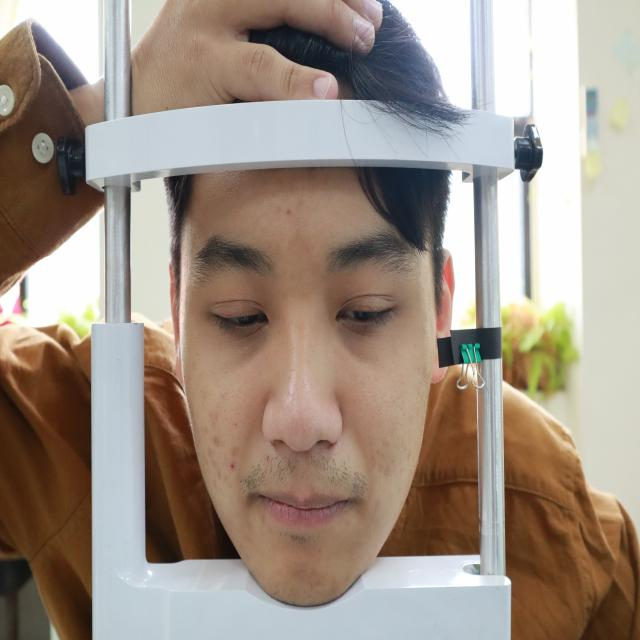eye: (332, 291, 402, 337), (207, 296, 274, 344)
gaze: (352, 303, 376, 325), (236, 307, 259, 328)
